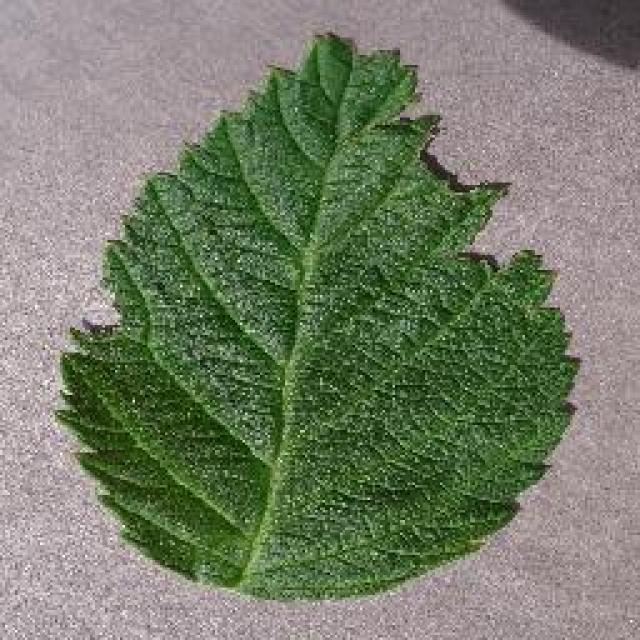Ras_healthy: (76, 101, 564, 578)
